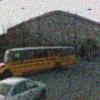buses: (0, 47, 76, 79)
